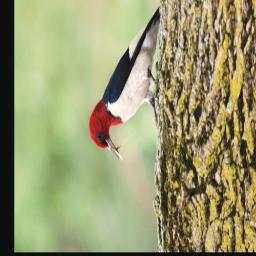Woodpecker: (88, 8, 160, 159)
